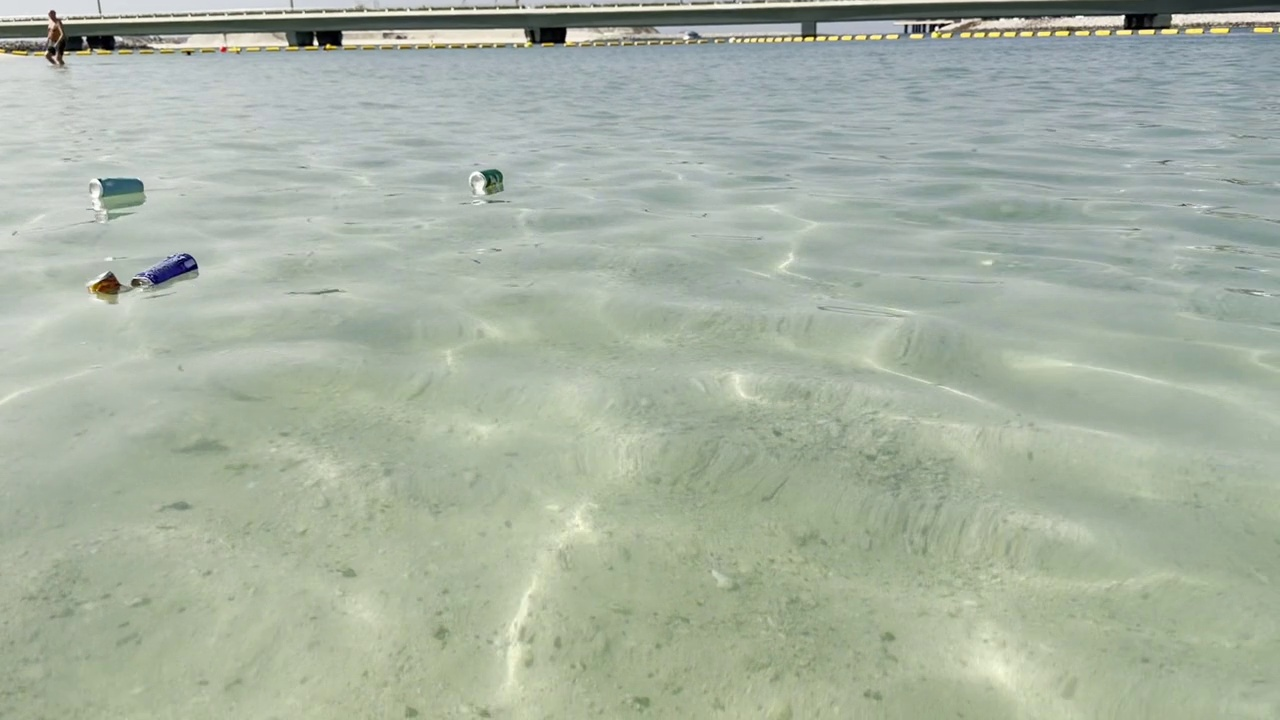debris: (123, 241, 197, 300), (74, 269, 142, 308), (83, 174, 156, 208), (461, 161, 510, 192)
